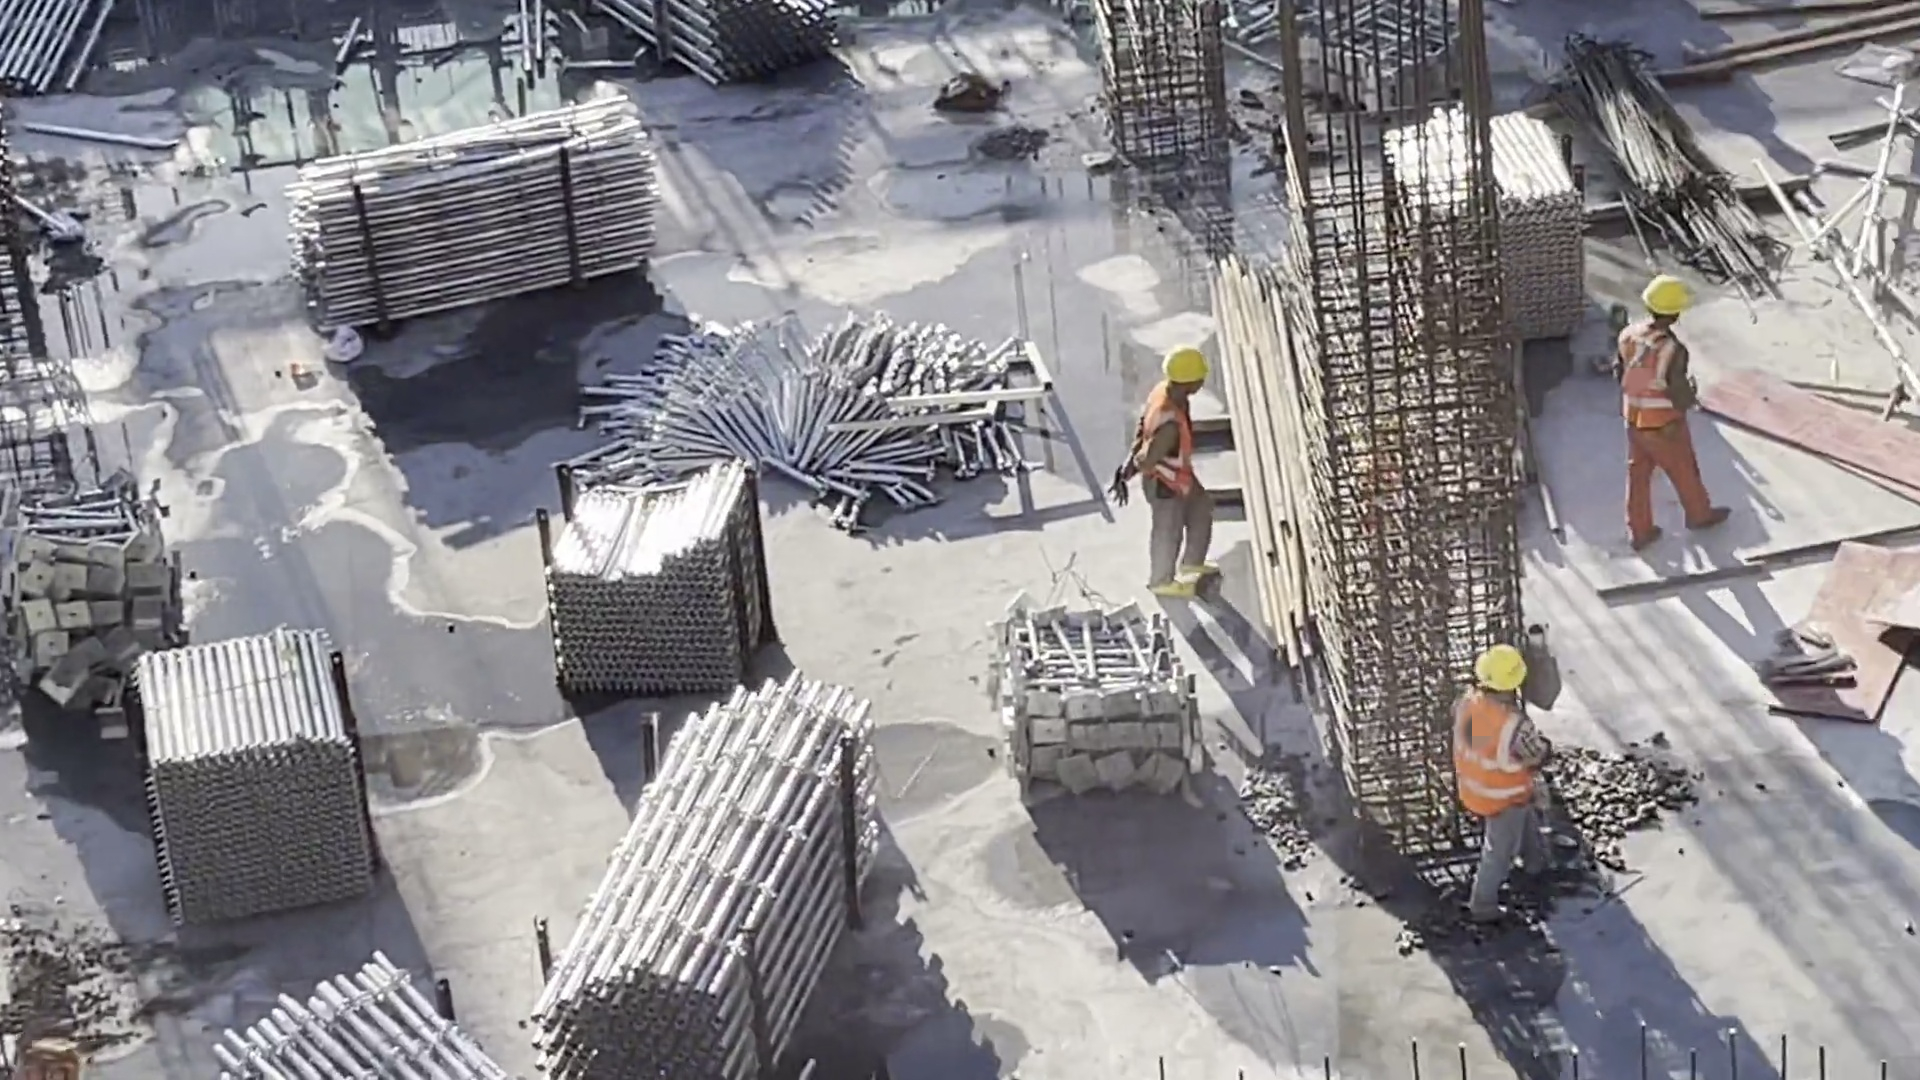helmet: (1467, 638, 1531, 694), (1638, 272, 1696, 318), (1148, 344, 1211, 384)
person: (1609, 265, 1733, 544), (1445, 638, 1560, 926), (1104, 345, 1226, 600)
scaffold: (519, 666, 878, 1076), (285, 91, 663, 334), (126, 619, 390, 938), (1380, 102, 1593, 345), (543, 462, 770, 691), (209, 945, 509, 1080), (590, 2, 863, 77)
vest: (1447, 693, 1531, 818), (1614, 321, 1690, 431), (1132, 387, 1197, 507)
